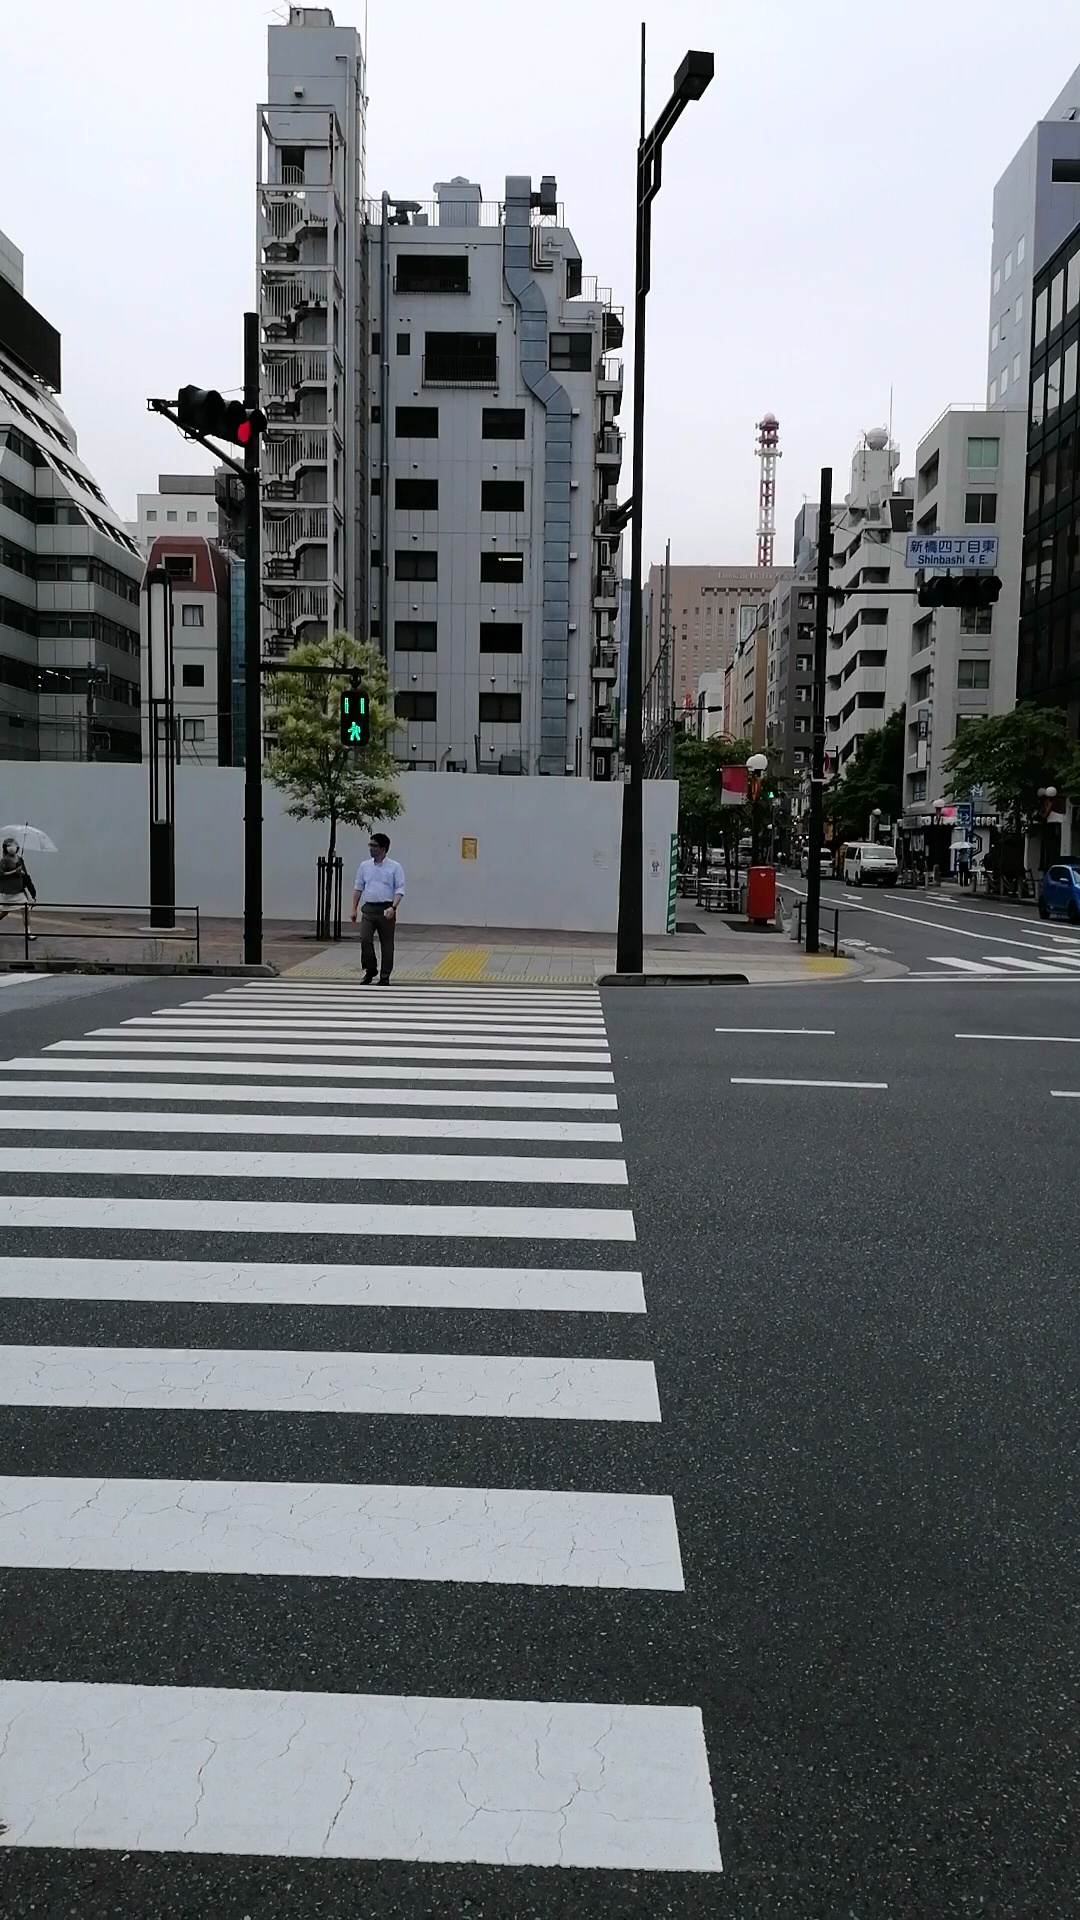green: (340, 690, 371, 746)
